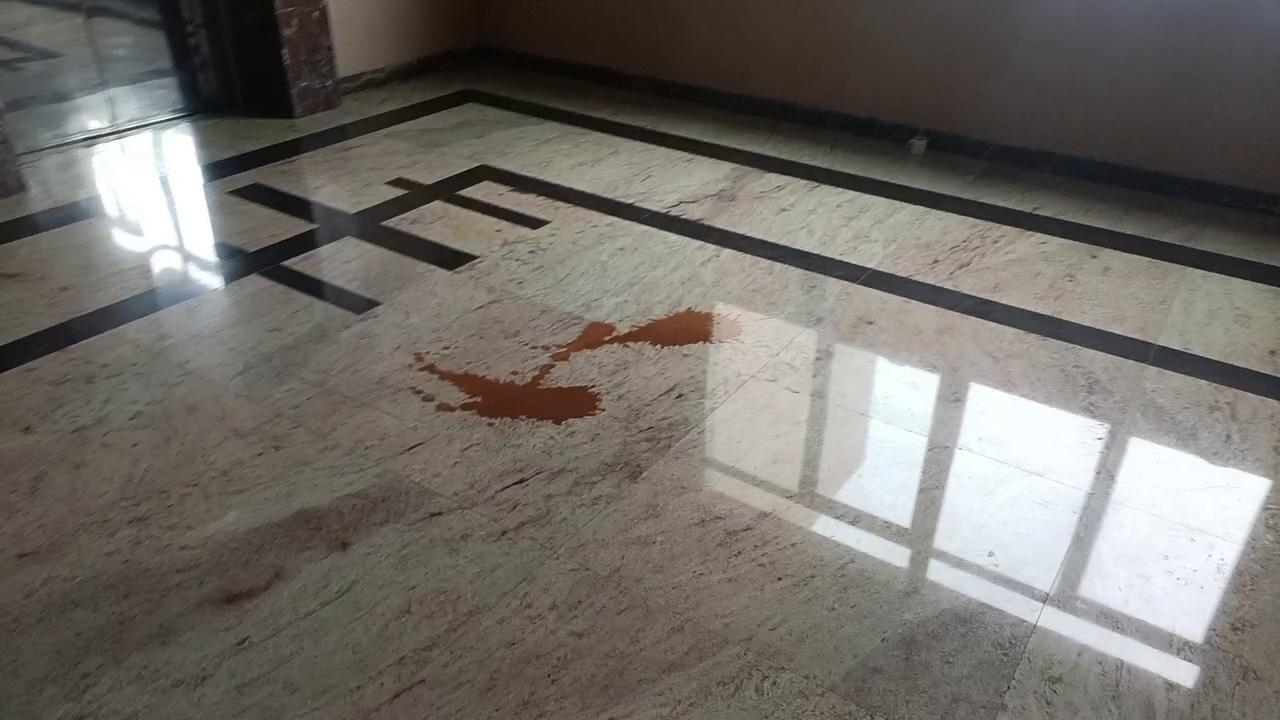dirty_floor: (408, 306, 742, 427)
